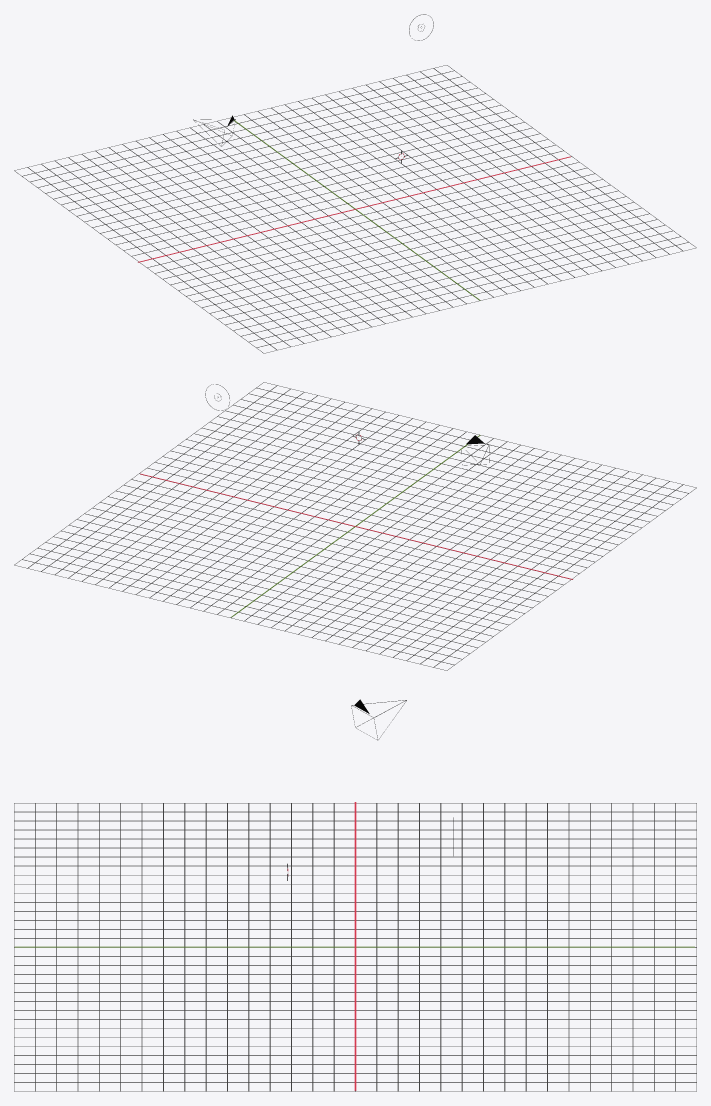
Rendered from monitor.glb.
The picture shows the model from 3 angles, top to bottom: view 1: azimuth 30°, elevation 25°; view 2: azimuth 150°, elevation 25°; view 3: azimuth 270°, elevation 25°; orthographic projection. The views are drawn at different scales.
Visible parts, largest first — view 1: Plane.006; view 2: Plane.006; view 3: Plane.006.
Boxes of the visible parts, box(x1,y1,x2,y2) form: Plane.006: box(14, 14, 696, 353); Plane.006: box(14, 382, 696, 670); Plane.006: box(14, 699, 696, 1091).
Bounding box in the file's own units: 3.48 × 1.1 × 3.47.
